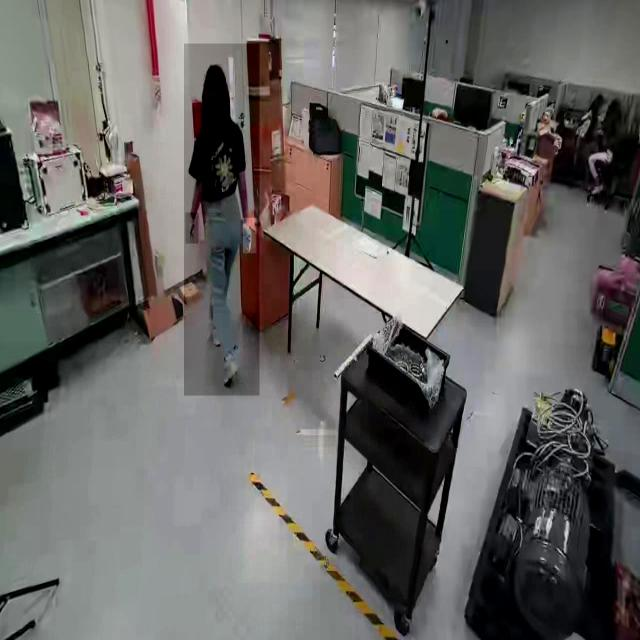hand_glove: (243, 218, 257, 254), (185, 212, 199, 245)
head_nohelmet: (202, 62, 226, 88)
person: (184, 44, 260, 396)
shoes: (216, 352, 242, 394)
